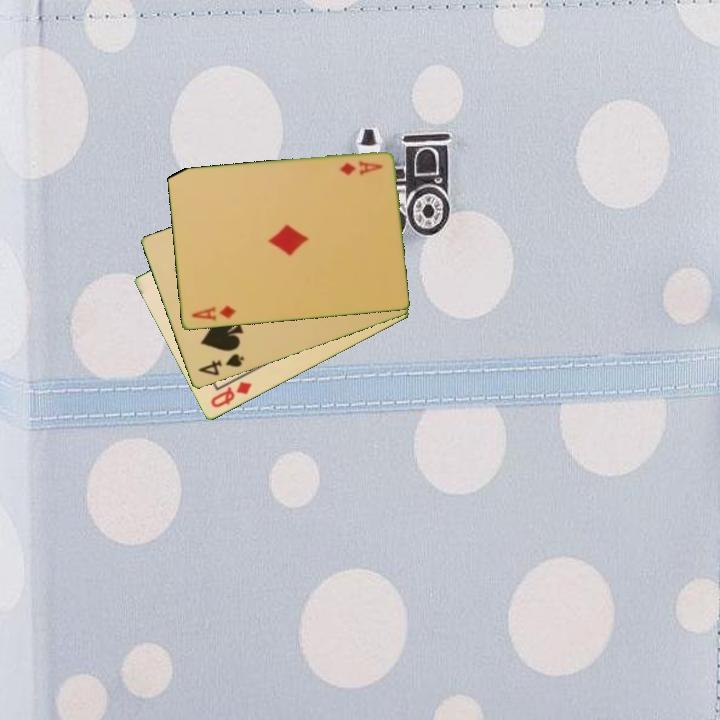4s: (194, 350, 247, 379)
Ad: (188, 302, 238, 324), (336, 158, 385, 179)
Qd: (207, 378, 255, 411)
